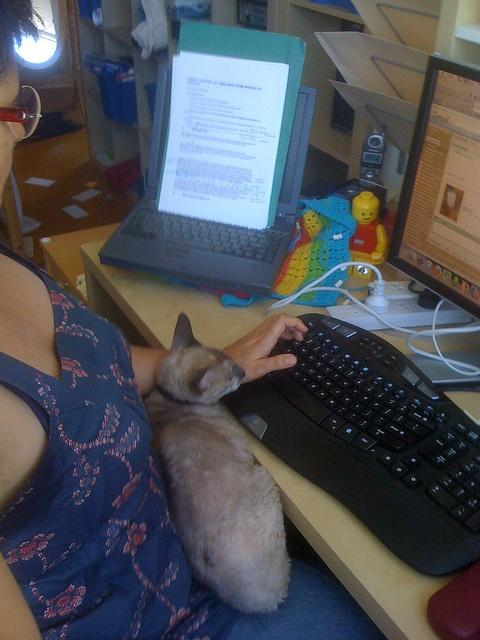AIO PC-Monitor-TV: (383, 51, 479, 322)
